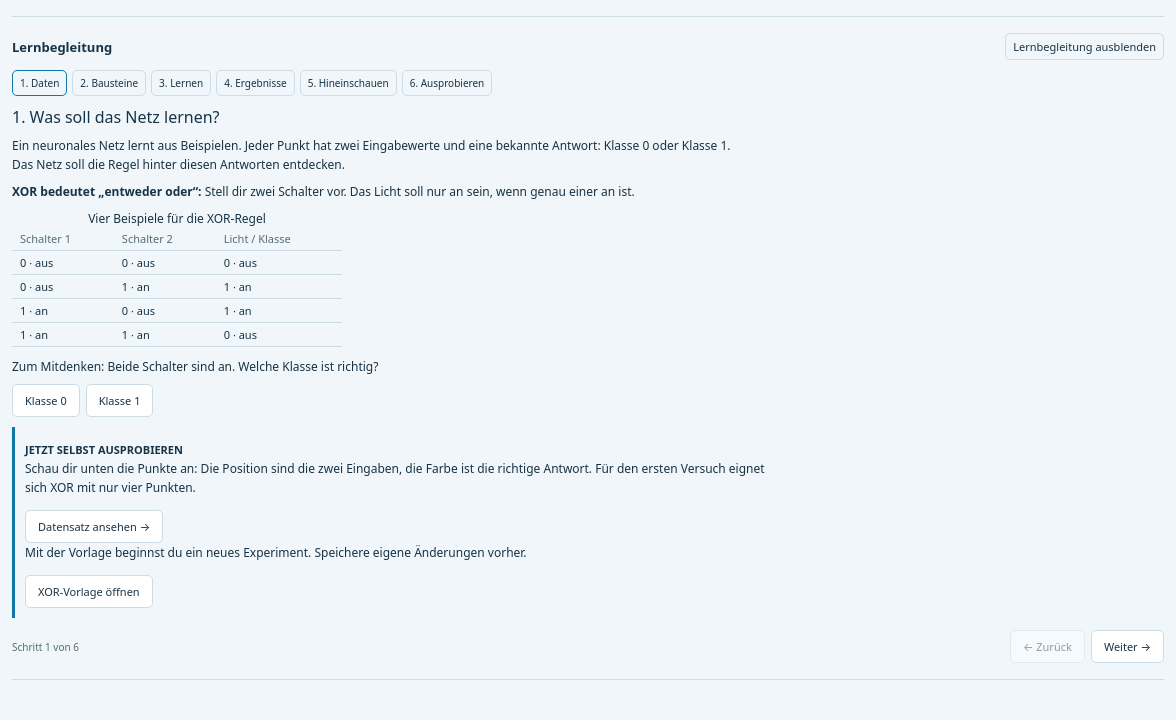
shows actual selected-run metrics and explains the limits of XOR accuracy
Later steps or results of the test are not shown.
Click the button "4. Ergebnisse" at (255, 83), box [216,70,295,96]
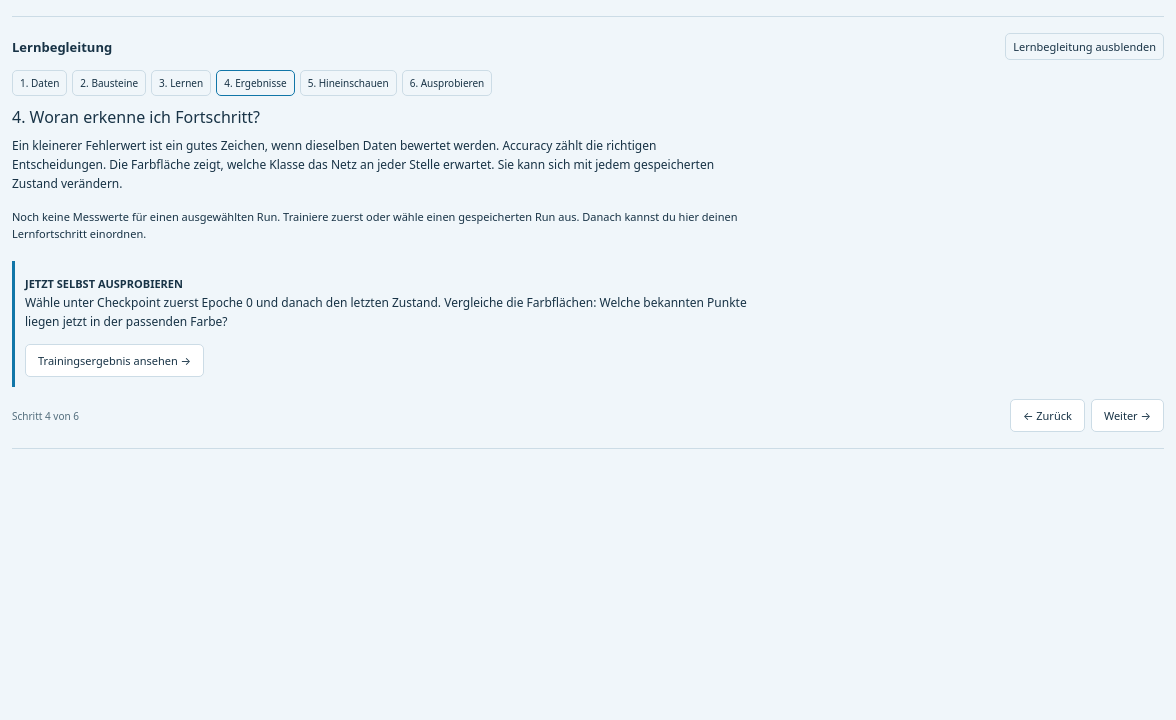
Check: the message shows "Noch keine Messwerte", box [12,209,737,241]
